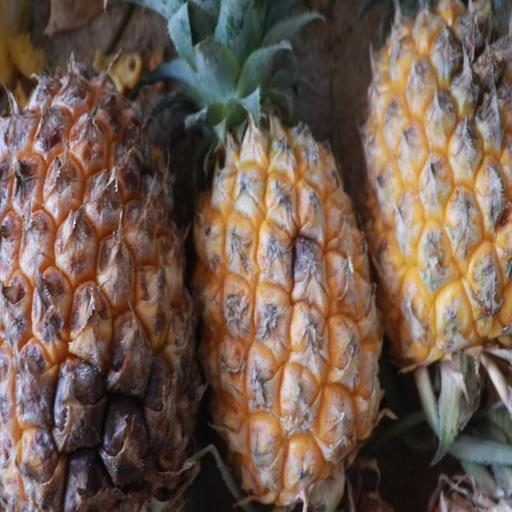Pineapple - v8 v1: (186, 50, 387, 512), (0, 59, 202, 512), (354, 0, 512, 384)
